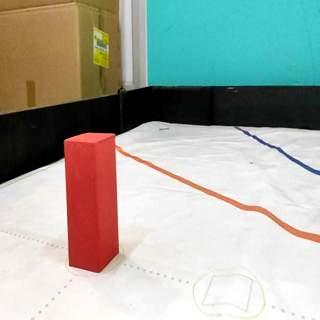redbox: (63, 130, 121, 272)
